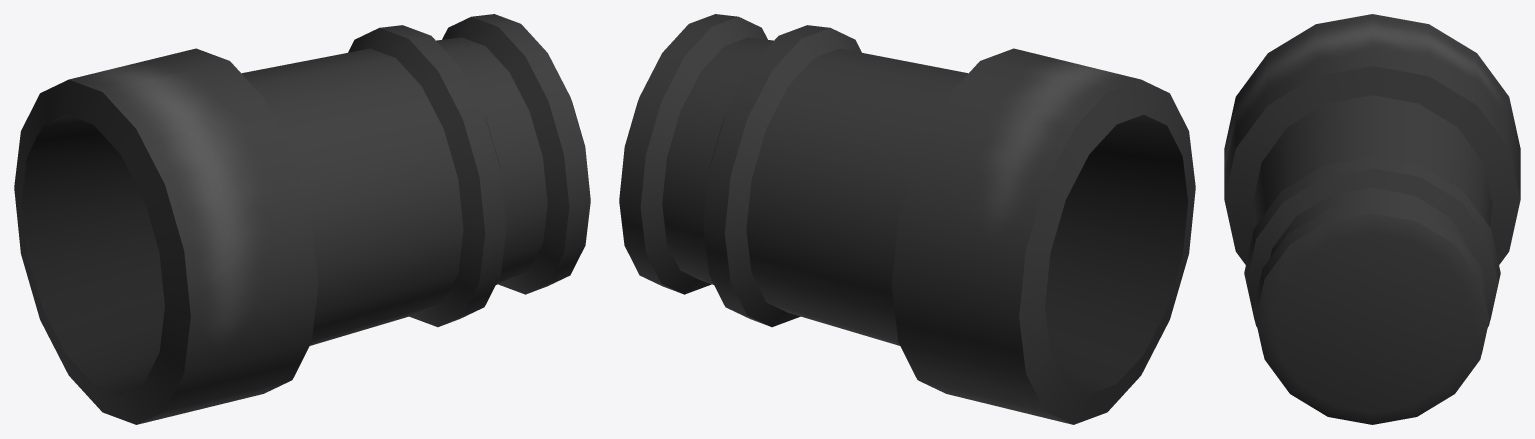
The model's file is Connector_02.fbx.
The picture shows the model from 3 angles, left to right: view 1: azimuth 30°, elevation 25°; view 2: azimuth 150°, elevation 25°; view 3: azimuth 270°, elevation 25°; orthographic projection. The views are drawn at different scales.
Parts seen in each view (by area): view 1: Connector_02; view 2: Connector_02; view 3: Connector_02.
Part boxes in pixels (left/top/right/bottom): Connector_02: left=14, top=14, right=590, bottom=424; Connector_02: left=619, top=14, right=1195, bottom=424; Connector_02: left=1224, top=14, right=1520, bottom=424.
Bounding box in the file's own units: 1.52 × 1.07 × 1.07.
